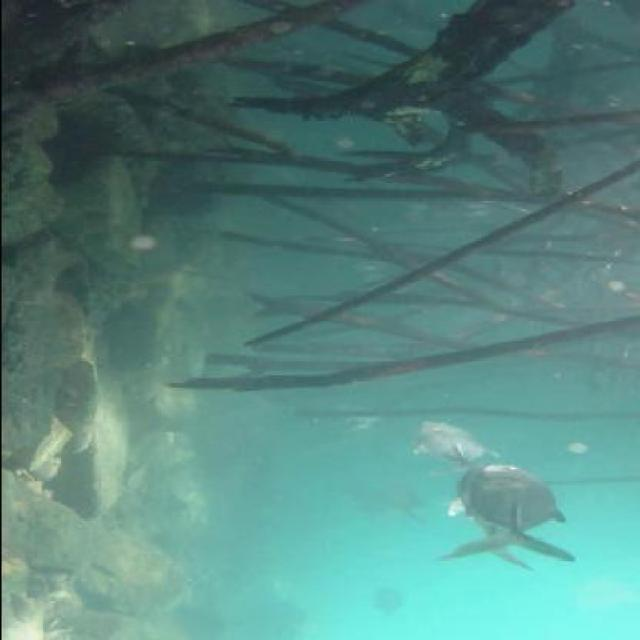Caranx_sexfasciatus_juvenile: (445, 464, 577, 570), (413, 469, 547, 571), (397, 420, 500, 482), (380, 488, 429, 530)
